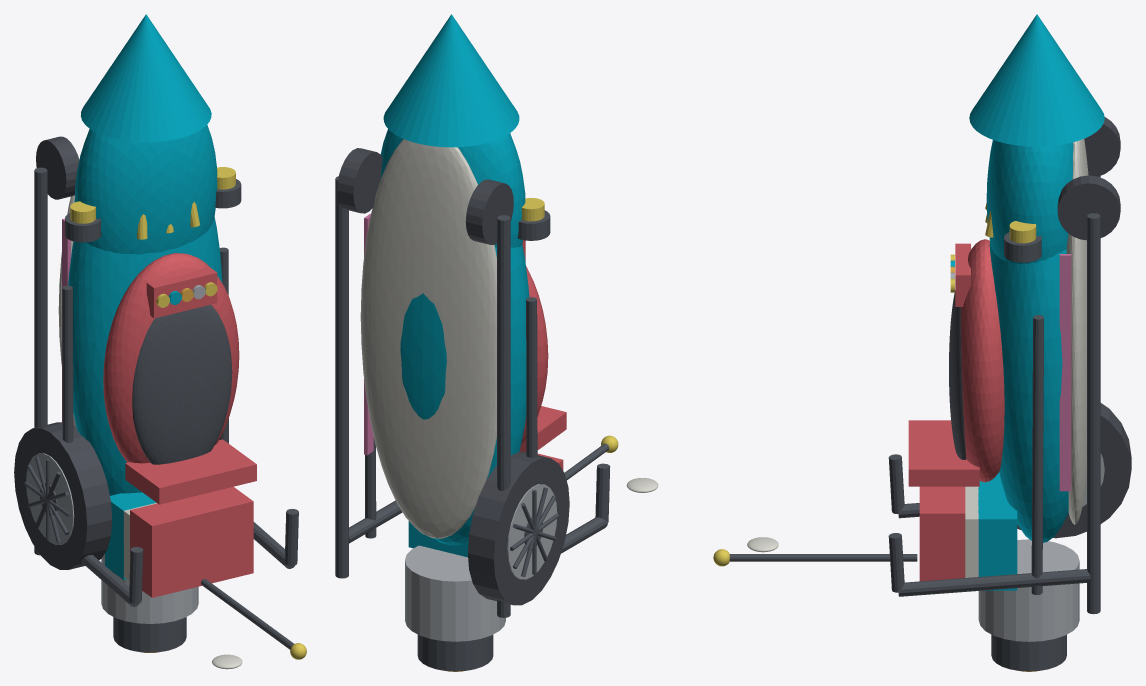
File: raketfiets.glb
3 renders of one model, left to right at view 1: azimuth 30°, elevation 25°; view 2: azimuth 150°, elevation 25°; view 3: azimuth 270°, elevation 25°, orthographic. The views are drawn at different scales.
Visible parts, largest first — view 1: Nose_Blue, Cockpit_Dark_Seat, Body_Turquoise, Rear_Upper_Red, Nose_Point_Blue, Cockpit_Red_Rim, RearWheel_Tire, Cockpit_Backrest, Lower_Rail_-0.59, Rocket_Exhaust_Metal, Rocket_Exhaust_Inner, SupportWheel_-0.47 (+15 smaller); view 2: Lower_White_Trim, Nose_Point_Blue, Body_Turquoise, RearWheel_Tire, Rocket_Exhaust_Metal, Lower_Rail_0.59, Lower_Rail_-0.59, Nose_Blue, SupportWheel_0.47, SupportWheel_-0.47, Rocket_Exhaust_Inner, RearWheel_Rim (+10 smaller); view 3: Body_Turquoise, Nose_Point_Blue, Cockpit_Red_Rim, Nose_Blue, Rocket_Exhaust_Metal, Lower_Rail_0.59, Lower_White_Trim, Rear_Upper_Red, Cockpit_Backrest, Rear_Blue_Band, RearWheel_Tire, Side_Rail_0.59 (+12 smaller).
Part boxes in pixels (bbox=[...]): Nose_Blue: bbox=[74, 125, 217, 254]; Cockpit_Dark_Seat: bbox=[132, 304, 232, 464]; Body_Turquoise: bbox=[68, 217, 222, 495]; Rear_Upper_Red: bbox=[130, 486, 253, 597]; Nose_Point_Blue: bbox=[81, 14, 211, 142]; Cockpit_Red_Rim: bbox=[103, 253, 239, 463]; RearWheel_Tire: bbox=[14, 422, 112, 569]; Cockpit_Backrest: bbox=[125, 439, 256, 504]; Lower_Rail_-0.59: bbox=[34, 167, 47, 555]; Rocket_Exhaust_Metal: bbox=[101, 553, 198, 623]; Rocket_Exhaust_Inner: bbox=[113, 617, 186, 652]; SupportWheel_-0.47: bbox=[36, 136, 79, 199]; Lower_White_Trim: bbox=[360, 139, 496, 538]; Nose_Point_Blue: bbox=[383, 14, 519, 147]; Body_Turquoise: bbox=[400, 244, 529, 545]; RearWheel_Tire: bbox=[467, 451, 569, 605]; Rocket_Exhaust_Metal: bbox=[405, 545, 505, 641]; Lower_Rail_0.59: bbox=[335, 176, 348, 578]; Lower_Rail_-0.59: bbox=[497, 215, 510, 617]; Nose_Blue: bbox=[380, 129, 525, 247]; SupportWheel_0.47: bbox=[337, 148, 382, 213]; SupportWheel_-0.47: bbox=[465, 179, 513, 244]; Rocket_Exhaust_Inner: bbox=[417, 634, 493, 671]; RearWheel_Rim: bbox=[507, 484, 557, 579]; Body_Turquoise: bbox=[989, 242, 1068, 542]; Nose_Point_Blue: bbox=[969, 14, 1104, 146]; Cockpit_Red_Rim: bbox=[961, 239, 1004, 482]; Nose_Blue: bbox=[986, 140, 1073, 263]; Rocket_Exhaust_Metal: bbox=[978, 539, 1079, 641]; Lower_Rail_0.59: bbox=[1087, 213, 1100, 614]; Lower_White_Trim: bbox=[1066, 139, 1088, 524]; Rear_Upper_Red: bbox=[919, 486, 965, 581]; Cockpit_Backrest: bbox=[908, 420, 979, 486]; Rear_Blue_Band: bbox=[978, 472, 1017, 590]; RearWheel_Tire: bbox=[1017, 403, 1131, 538]; Side_Rail_0.59: bbox=[1031, 315, 1043, 594].
Bounding box in the file's own units: 1.45 × 4.54 × 2.65.
